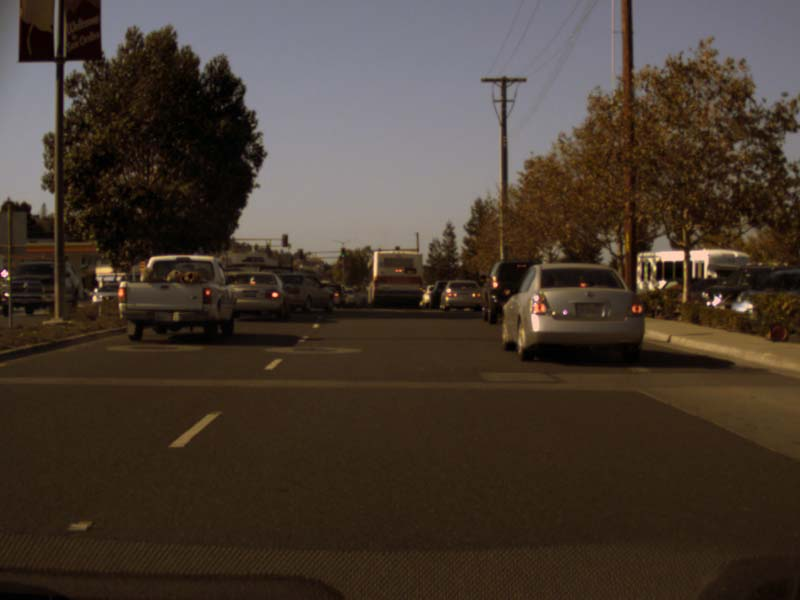Green: (341, 248, 345, 257)
